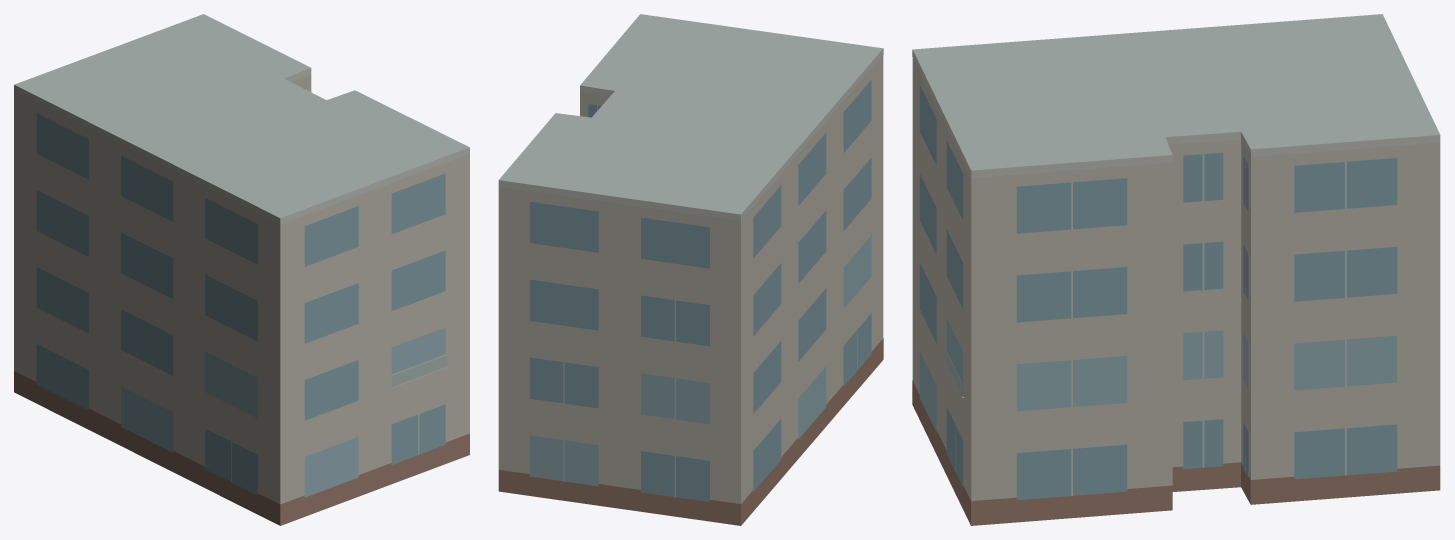
The model's file is survey-upis-32890851.glb.
3 views of the same model, side by side, from view 1: azimuth 30°, elevation 25°; view 2: azimuth 150°, elevation 25°; view 3: azimuth 270°, elevation 25° (orthographic). The views are drawn at different scales.
Parts seen in each view (by area): view 1: survey-upis-32890851.tmp; view 2: survey-upis-32890851.tmp; view 3: survey-upis-32890851.tmp.
Boxes of the visible parts, x1,y1,x2,y2 form: survey-upis-32890851.tmp: (14, 14, 469, 525); survey-upis-32890851.tmp: (498, 14, 883, 525); survey-upis-32890851.tmp: (912, 14, 1440, 525).
Size of the model in its own units: 10.97 by 11.6 by 15.63.
